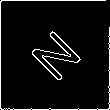N_SE: (23, 23, 87, 87)
